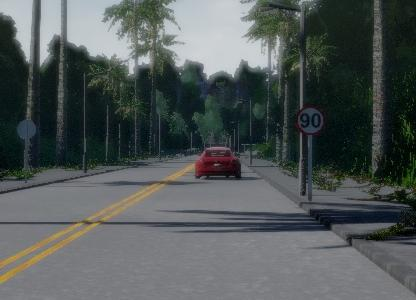Speed_90: (293, 102, 326, 138)
